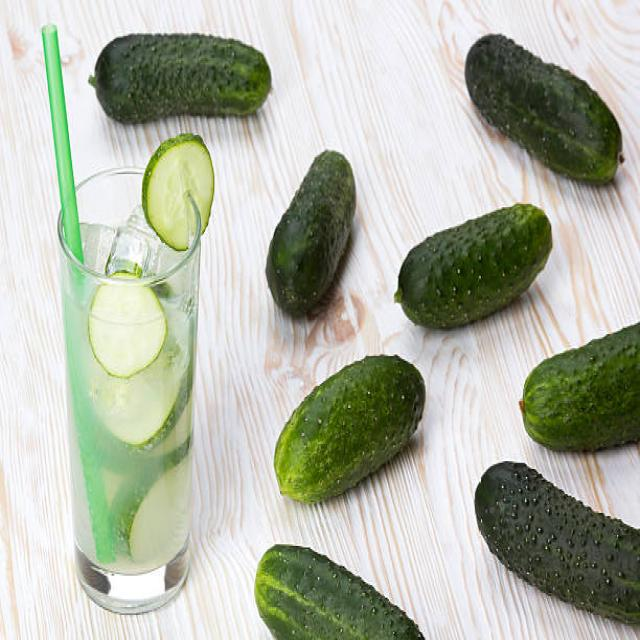cucumber: (474, 458, 640, 623), (464, 32, 623, 183), (268, 354, 425, 506), (395, 202, 553, 332), (249, 541, 427, 640), (94, 29, 272, 125), (518, 319, 640, 456), (264, 145, 357, 310)
